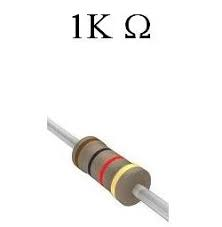resistor: (62, 123, 160, 211)
